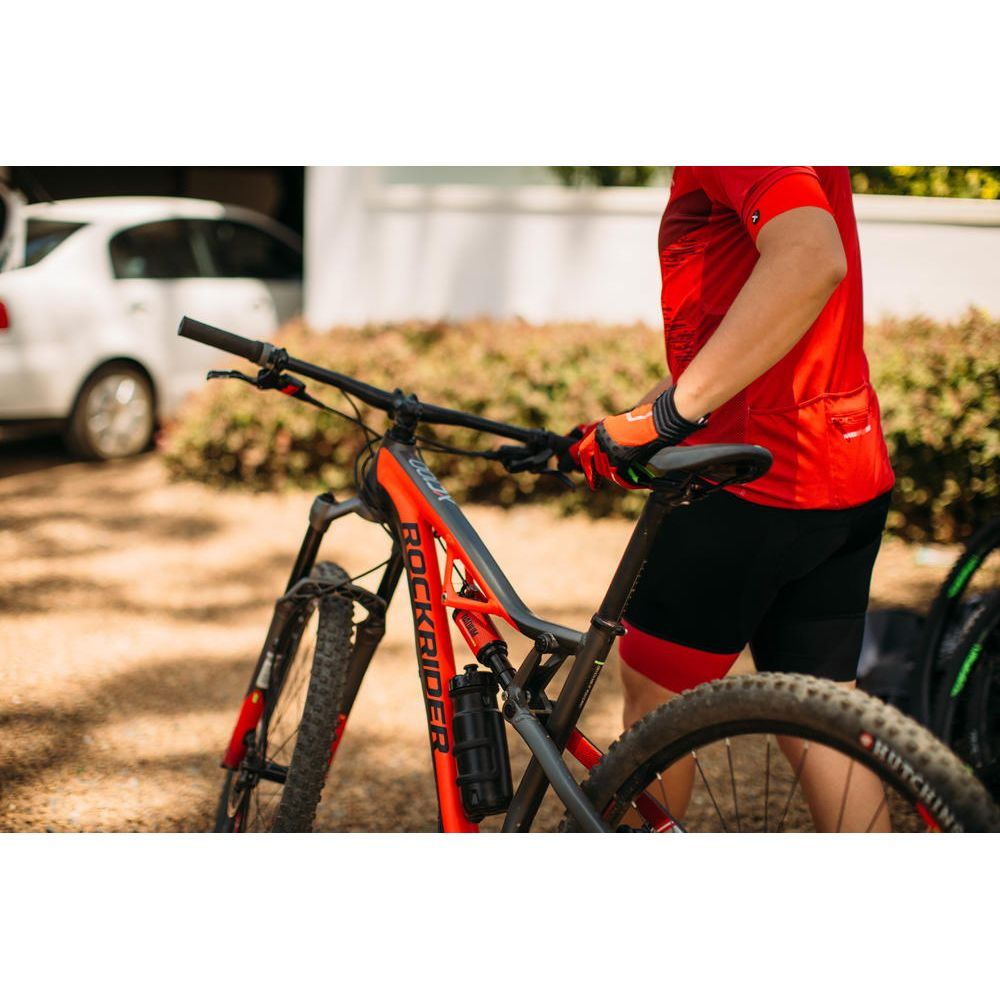RoadBike: (340, 580, 595, 884)
